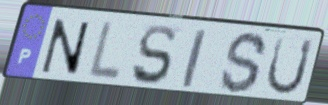I: (180, 26, 209, 90)
L: (84, 19, 125, 84)
N: (39, 17, 92, 79)
S: (218, 30, 270, 96), (129, 23, 177, 87)
U: (263, 34, 316, 97)
